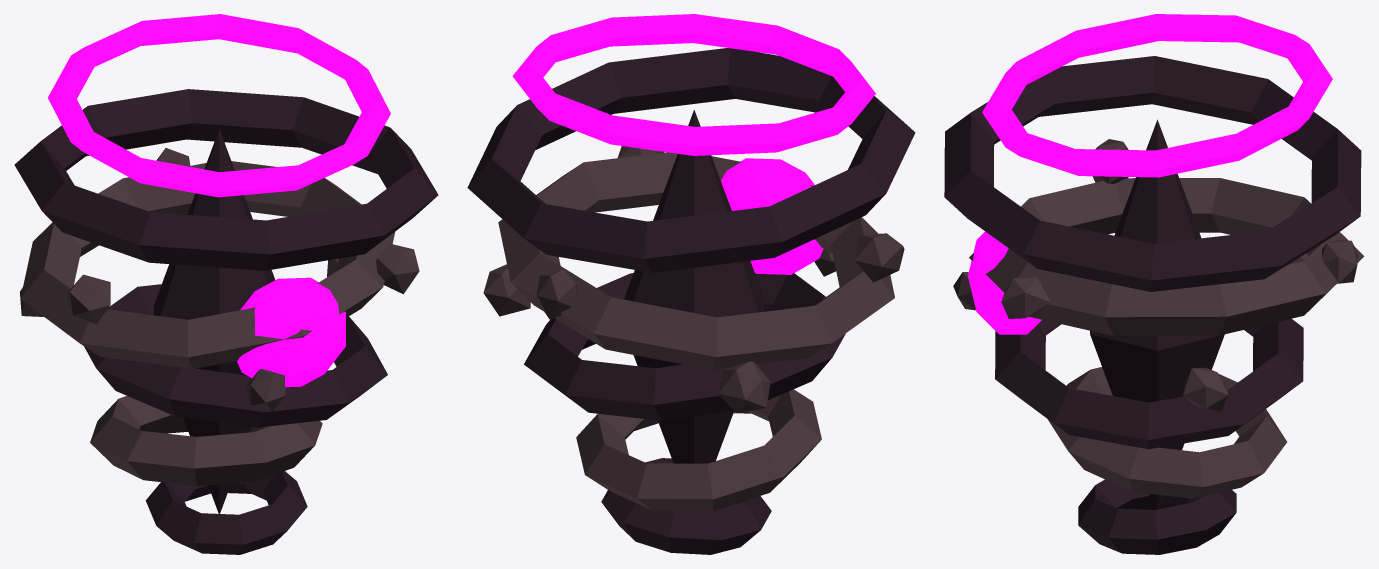
Rendered from elite1.fbx.
The picture shows the model from 3 angles, left to right: view 1: azimuth 30°, elevation 25°; view 2: azimuth 150°, elevation 25°; view 3: azimuth 270°, elevation 25°; orthographic projection. The views are drawn at different scales.
Visible parts, largest first — view 1: SM_elite1_MAT_RockDark, SM_elite1_MAT_Rock, SM_elite1_MAT_GlowMagenta; view 2: SM_elite1_MAT_RockDark, SM_elite1_MAT_Rock, SM_elite1_MAT_GlowMagenta; view 3: SM_elite1_MAT_RockDark, SM_elite1_MAT_Rock, SM_elite1_MAT_GlowMagenta.
Boxes of the visible parts, box(x1,y1,x2,y2) form: SM_elite1_MAT_RockDark: box(14, 89, 438, 554); SM_elite1_MAT_Rock: box(20, 148, 419, 486); SM_elite1_MAT_GlowMagenta: box(48, 14, 390, 387); SM_elite1_MAT_RockDark: box(467, 48, 915, 554); SM_elite1_MAT_Rock: box(483, 146, 904, 510); SM_elite1_MAT_GlowMagenta: box(512, 14, 875, 274); SM_elite1_MAT_RockDark: box(944, 56, 1361, 554); SM_elite1_MAT_Rock: box(953, 139, 1364, 498); SM_elite1_MAT_GlowMagenta: box(968, 14, 1332, 334).
Bounding box in the file's own units: 2.12 × 2.5 × 2.04.
